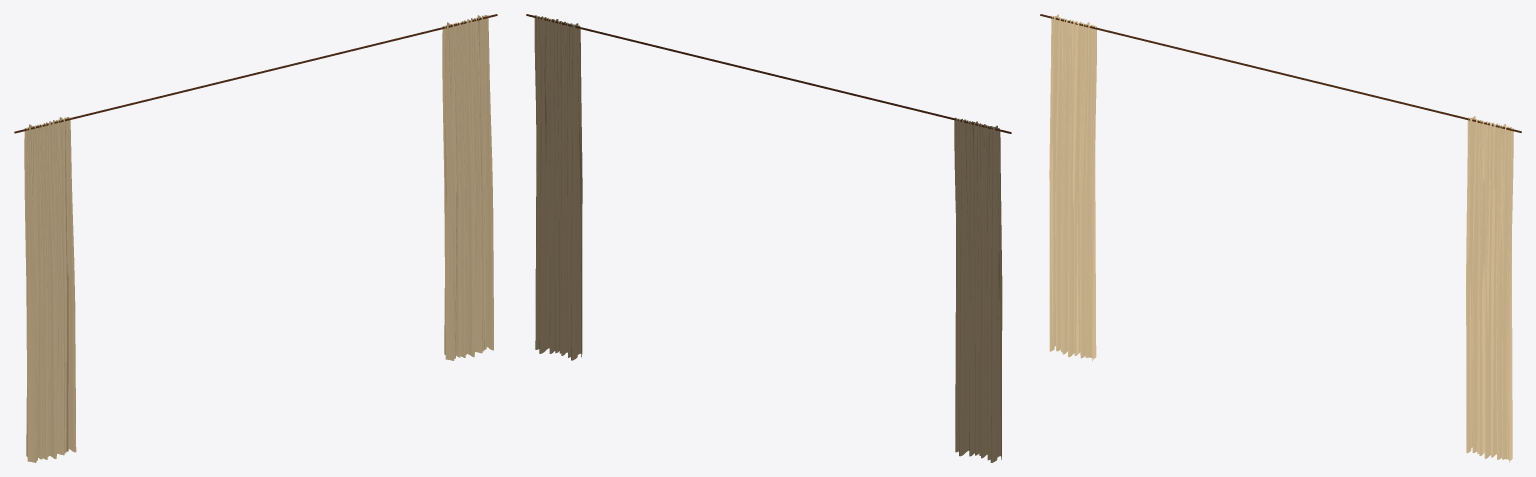
File: Curtains_9dfac72d.obj
The picture shows the model from 3 angles, left to right: view 1: azimuth 30°, elevation 25°; view 2: azimuth 150°, elevation 25°; view 3: azimuth 330°, elevation 25°; orthographic projection.
Visible parts, largest first — view 1: FP217:Cube.1069_ad34ddd7, FP217:Cylinder.128_08efcfab; view 2: FP217:Cube.1069_ad34ddd7, FP217:Cylinder.128_08efcfab; view 3: FP217:Cube.1069_ad34ddd7, FP217:Cylinder.128_08efcfab.
Boxes of the visible parts, x1,y1,x2,y2 form: FP217:Cube.1069_ad34ddd7: [24, 15, 493, 462]; FP217:Cylinder.128_08efcfab: [14, 14, 497, 133]; FP217:Cube.1069_ad34ddd7: [534, 15, 1002, 462]; FP217:Cylinder.128_08efcfab: [526, 14, 1011, 133]; FP217:Cube.1069_ad34ddd7: [1049, 14, 1513, 462]; FP217:Cylinder.128_08efcfab: [1040, 14, 1521, 132].
Size of the model in its own units: 3.6 by 2.38 by 0.1485.
